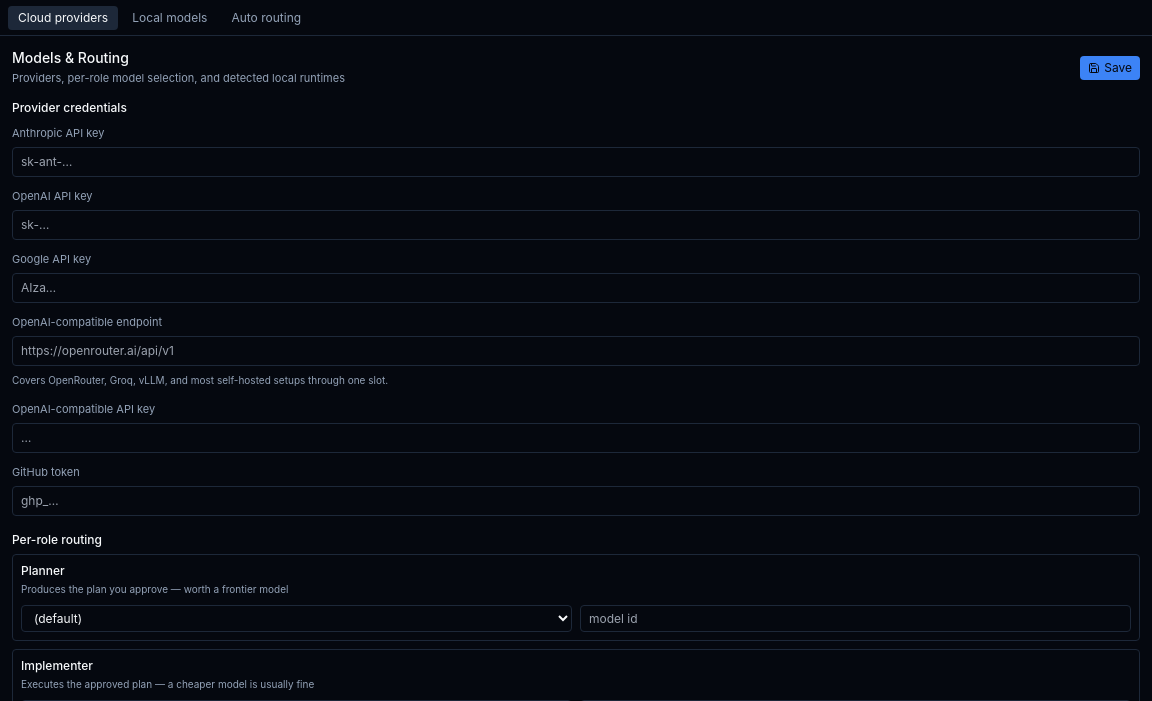
Test: ProvidersPanel › the Local tab is a separate view, not more of the same scrolling page
Expected: the text "Provider credentials" is shown, x1=12 y1=100 x2=127 y2=115
Click the tab "Local models": (170, 18) x1=122 y1=6 x2=218 y2=30
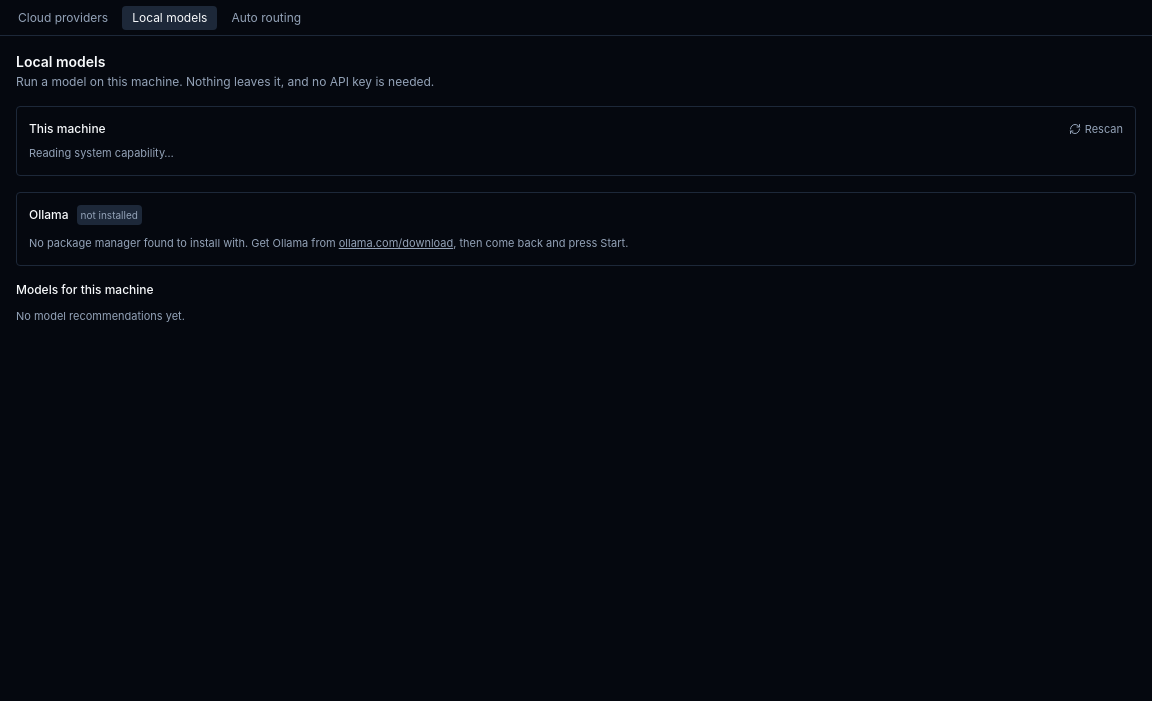
Now the text "Provider credentials" is gone
Now the text "This machine" is shown, box x1=29 y1=121 x2=106 y2=137
